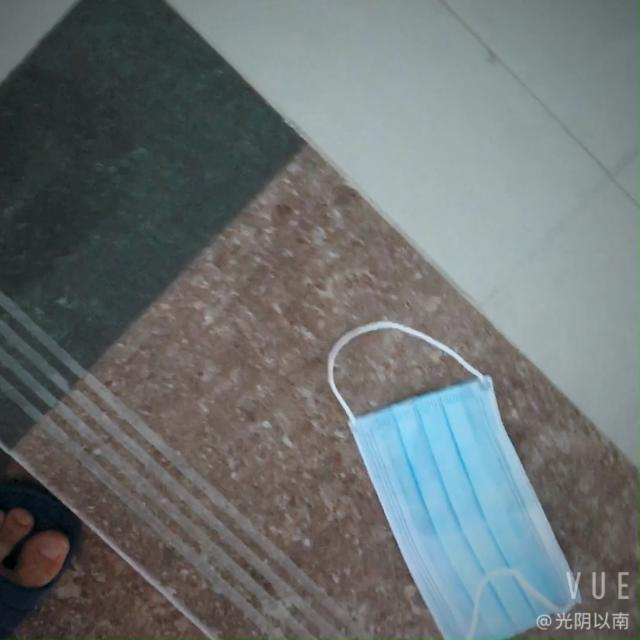face mask: (358, 375, 586, 633)
